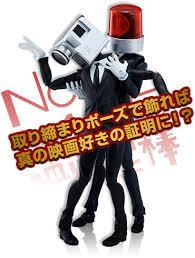no more kid: (50, 10, 110, 70)
